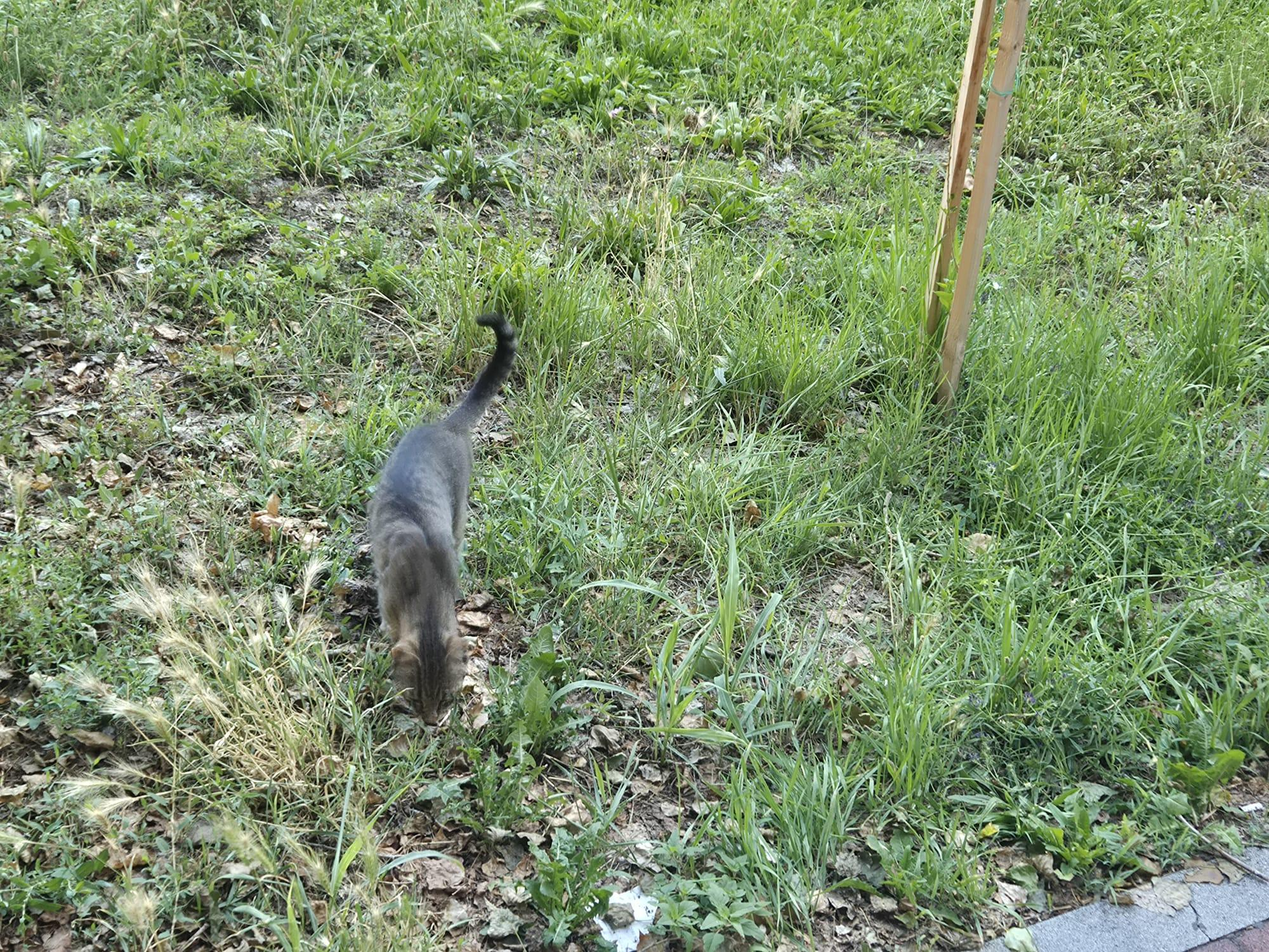macka: (365, 310, 520, 726)
